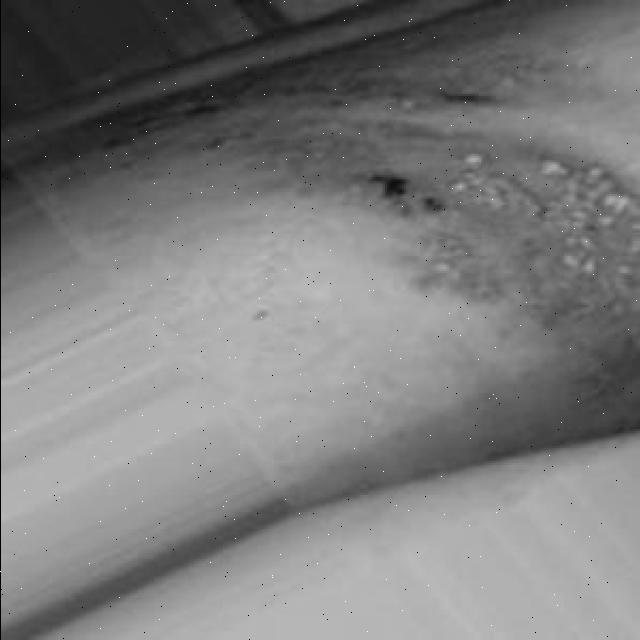Shingles: (402, 144, 640, 328)
